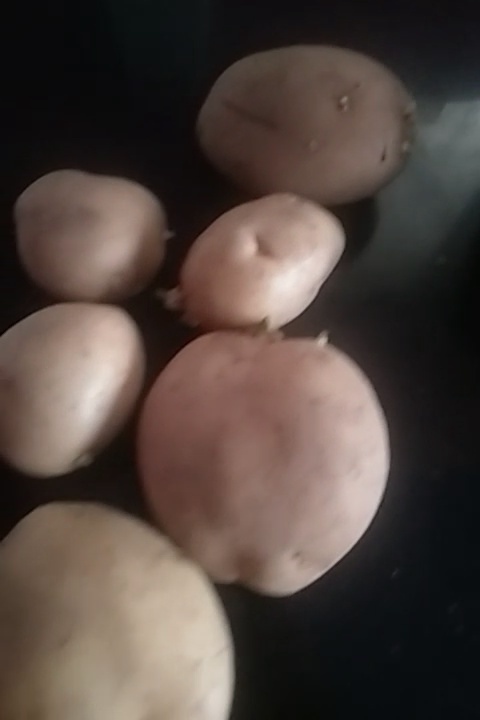potato: (140, 314, 393, 601), (12, 514, 253, 716), (197, 48, 411, 193), (172, 187, 350, 331), (1, 300, 140, 477), (11, 167, 175, 299)
